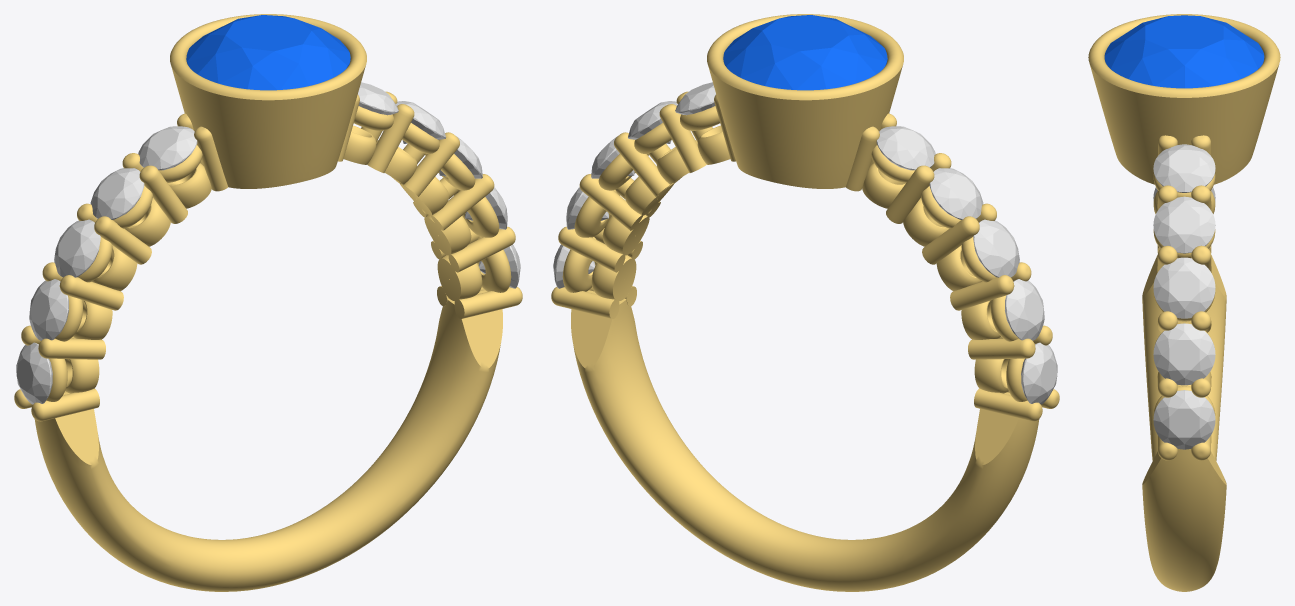
The model's file is bluesapphire-round-yellowgold-bezelset-taperedband-11stone.glb.
The picture shows the model from 3 angles, left to right: view 1: azimuth 30°, elevation 25°; view 2: azimuth 150°, elevation 25°; view 3: azimuth 270°, elevation 25°; orthographic projection. The views are drawn at different scales.
Parts seen in each view (by area): view 1: metal, stone, side.001, side.002, side, side.003, side.004, side.005, side.006; view 2: metal, stone, side.001, side.002, side, side.003, side.004, side.005, side.006; view 3: metal, stone, side.008, side.007, side.009, side.006, side.005.
Part boxes in pixels (box(x1,y1,x2,y2)): metal: box(14, 14, 522, 591); stone: box(186, 15, 350, 90); side.001: box(90, 168, 144, 219); side.002: box(54, 219, 100, 277); side: box(138, 126, 197, 170); side.003: box(29, 279, 68, 340); side.004: box(16, 342, 52, 404); side.005: box(358, 82, 398, 115); side.006: box(396, 101, 445, 143); metal: box(551, 14, 1059, 591); stone: box(723, 15, 887, 90); side.001: box(929, 168, 983, 219); side.002: box(973, 219, 1019, 277); side: box(876, 126, 935, 170); side.003: box(1005, 279, 1044, 340); side.004: box(1021, 342, 1057, 404); side.005: box(675, 82, 715, 115); side.006: box(628, 101, 677, 143); metal: box(1088, 14, 1280, 591); stone: box(1104, 15, 1264, 88); side.008: box(1153, 323, 1215, 385); side.007: box(1153, 257, 1215, 318); side.009: box(1153, 390, 1215, 449); side.006: box(1153, 196, 1215, 253); side.005: box(1153, 144, 1215, 192).
Bounding box in the file's own units: 22.19 × 23.81 × 7.74.
